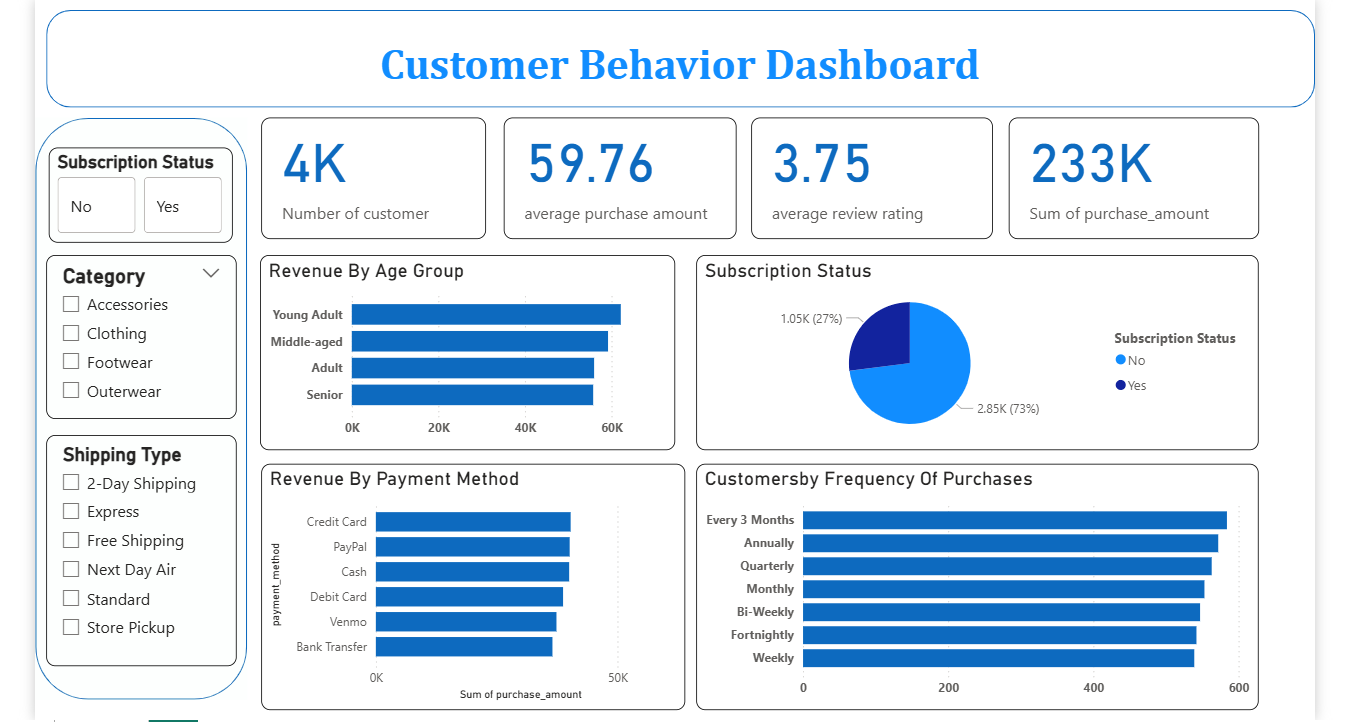

What the dashboard file says about the page in this screenshot:
{"tool":"powerbi","page":{"name":"Page 1","canvas":[1280,720],"ordinal":0},"visuals":[{"type":"shape","box":[0,117.5,212.5,582.5],"z":0},{"type":"barChart","title":"Revenue By Age Group ","fields":{"Y":["Sum(cleaned_data.purchase_amount)"],"Category":["cleaned_data.age_group"]},"box":[225,255,415,195],"z":2000},{"type":"advancedSlicerVisual","title":"Subscription Status","fields":{"Values":["cleaned_data.subscription_status"]},"box":[13.8,147.5,183.8,95],"z":2500},{"type":"pieChart","title":"Subsription Status","fields":{"Category":["cleaned_data.subscription_status"],"Y":["CountNonNull(cleaned_data.customer_id)"]},"box":[661.2,255,562.5,195],"z":3000},{"type":"slicer","fields":{"Values":["cleaned_data.category"]},"box":[11.2,255,190,163.8],"z":4000},{"type":"cardVisual","fields":{"Data":["cleaned_data.Number of customer"]},"box":[226.2,117.5,225,121.2],"z":5000},{"type":"cardVisual","fields":{"Data":["cleaned_data.average purchase amount"]},"box":[468.8,117.5,232.5,121.2],"z":6000},{"type":"cardVisual","fields":{"Data":["cleaned_data.average review rating"]},"box":[716.2,117.5,241.2,121.2],"z":7000},{"type":"shape","box":[11.2,10,1268.8,97.5],"z":8000},{"type":"barChart","title":"Revenue By Payment Method","fields":{"Category":["cleaned_data.payment_method"],"Y":["Sum(cleaned_data.purchase_amount)"]},"box":[226.2,463.8,423.8,246.2],"z":9000},{"type":"textbox","box":[57.5,33.2,1184.2,75.4],"z":10000},{"type":"slicer","fields":{"Values":["cleaned_data.shipping_type"]},"box":[11.2,435,190,231.2],"z":11000},{"type":"clusteredBarChart","title":" Customersby Frequency Of Purchases","fields":{"Category":["cleaned_data.frequency_of_purchases"],"Y":["CountNonNull(cleaned_data.customer_id)"]},"box":[661.2,463.8,562.5,246.2],"z":11001},{"type":"cardVisual","fields":{"Data":["Sum(cleaned_data.purchase_amount)"]},"box":[973.8,117.5,250,121.2],"z":11002}]}

Visuals, with their boxes in screenshot pixels (x1, y1, x2, y2):
shape: select_region(35, 116, 246, 694)
"Revenue By Age Group " barChart: select_region(258, 253, 670, 446)
"Subscription Status" advancedSlicerVisual: select_region(49, 146, 231, 240)
"Subsription Status" pieChart: select_region(691, 253, 1248, 446)
slicer - cleaned_data.category: select_region(47, 253, 235, 415)
cardVisual - cleaned_data.Number of customer: select_region(260, 116, 483, 237)
cardVisual - cleaned_data.average purchase amount: select_region(500, 116, 731, 237)
cardVisual - cleaned_data.average review rating: select_region(745, 116, 984, 237)
shape: select_region(47, 10, 1304, 107)
"Revenue By Payment Method" barChart: select_region(260, 460, 680, 704)
textbox: select_region(92, 33, 1266, 108)
slicer - cleaned_data.shipping_type: select_region(47, 431, 235, 660)
" Customersby Frequency Of Purchases" clusteredBarChart: select_region(691, 460, 1248, 704)
cardVisual - Sum(cleaned_data.purchase_amount): select_region(1001, 116, 1248, 237)
